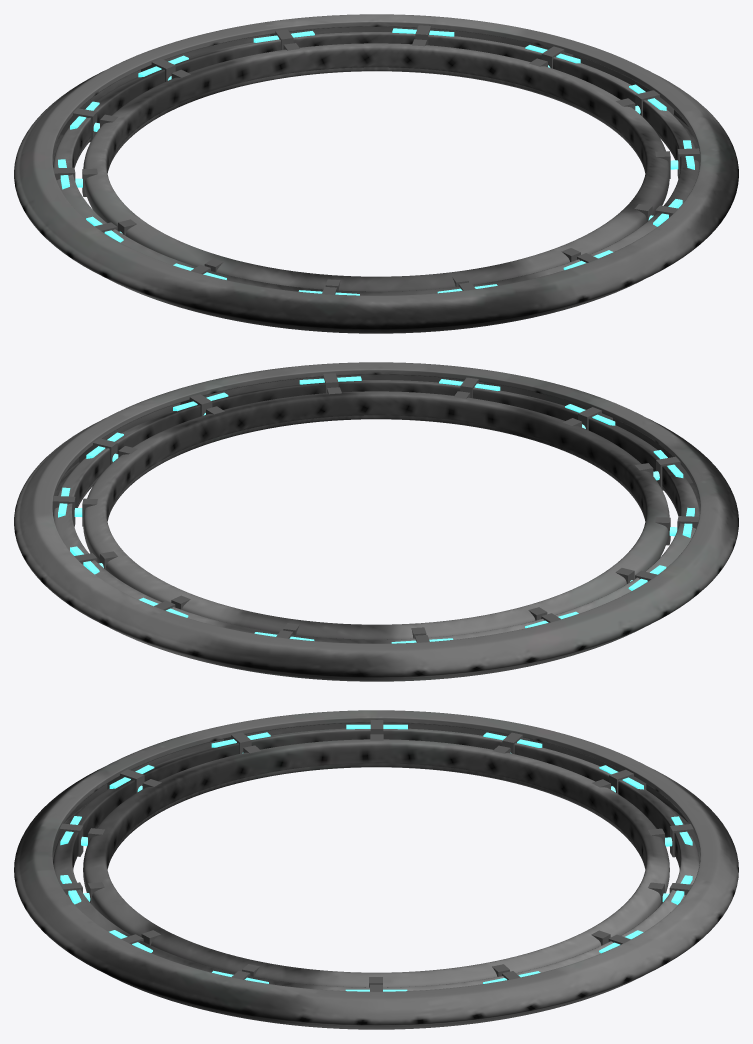
File: portal.glb
The picture shows the model from 3 angles, top to bottom: view 1: azimuth 30°, elevation 25°; view 2: azimuth 150°, elevation 25°; view 3: azimuth 270°, elevation 25°; orthographic projection.
Visible parts, largest first — view 1: outer_portal.036, Cube, Cube.002, Cube.001; view 2: outer_portal.036, Cube, Cube.002, Cube.001; view 3: outer_portal.036, Cube, Cube.002, Cube.001.
Part boxes in pixels (box(x1,y1,x2,y2)): outer_portal.036: box(14, 14, 738, 333); Cube: box(53, 25, 700, 294); Cube.002: box(58, 28, 694, 295); Cube.001: box(82, 39, 670, 290); outer_portal.036: box(14, 362, 738, 681); Cube: box(52, 373, 699, 642); Cube.002: box(58, 376, 694, 643); Cube.001: box(82, 387, 670, 638); outer_portal.036: box(14, 710, 738, 1029); Cube: box(53, 720, 699, 991); Cube.002: box(60, 724, 692, 991); Cube.001: box(87, 734, 664, 987).
Size of the model in its own units: 2.04 by 0.097 by 2.04.
Materials: 5 (1 with a texture image).
